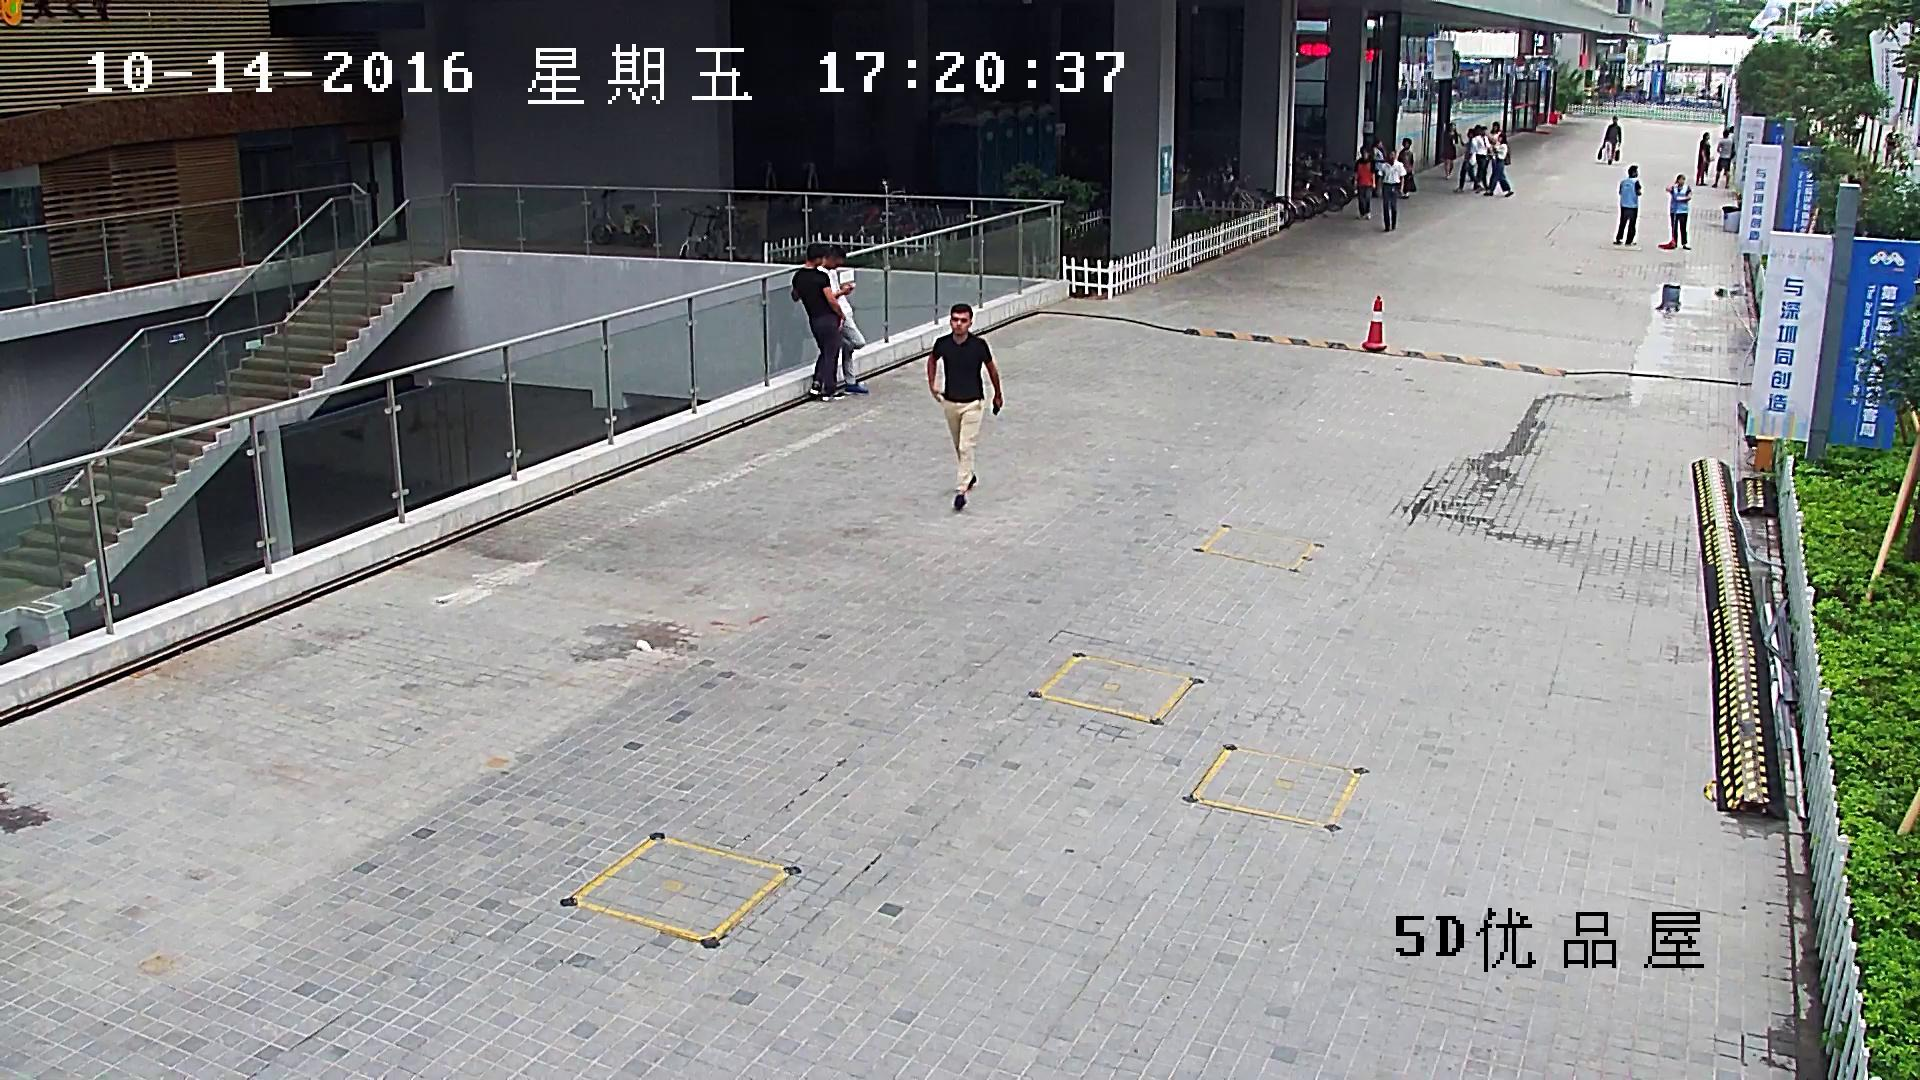person: (926, 302, 1002, 510), (790, 242, 847, 401), (816, 243, 868, 393), (1657, 174, 1691, 250), (1375, 149, 1405, 233), (1613, 165, 1641, 246), (1665, 174, 1691, 250), (1482, 134, 1513, 197), (1453, 128, 1481, 192), (1353, 144, 1375, 220), (1469, 127, 1493, 194), (1398, 138, 1417, 199), (1598, 114, 1622, 164), (1711, 129, 1732, 189), (1602, 115, 1621, 165), (1443, 123, 1458, 177), (1695, 132, 1710, 186), (1371, 137, 1385, 197), (1486, 121, 1501, 166), (1885, 125, 1896, 166)
